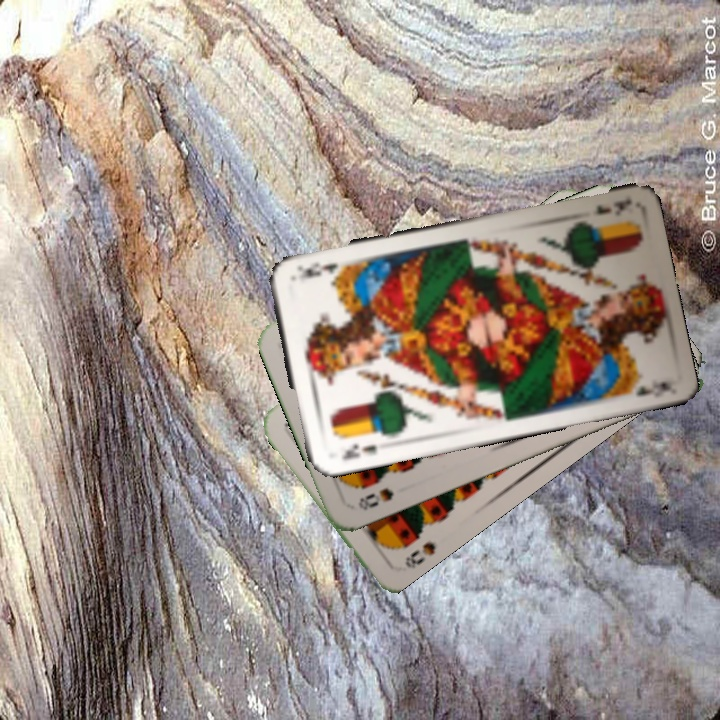EK: (588, 194, 633, 218), (337, 439, 379, 463)
S8: (400, 537, 438, 572), (354, 483, 397, 513)
